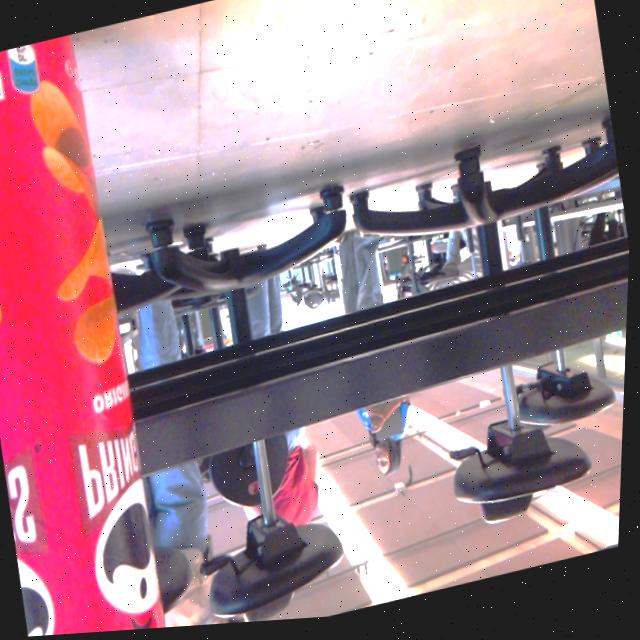redpringles: (0, 20, 222, 640)
